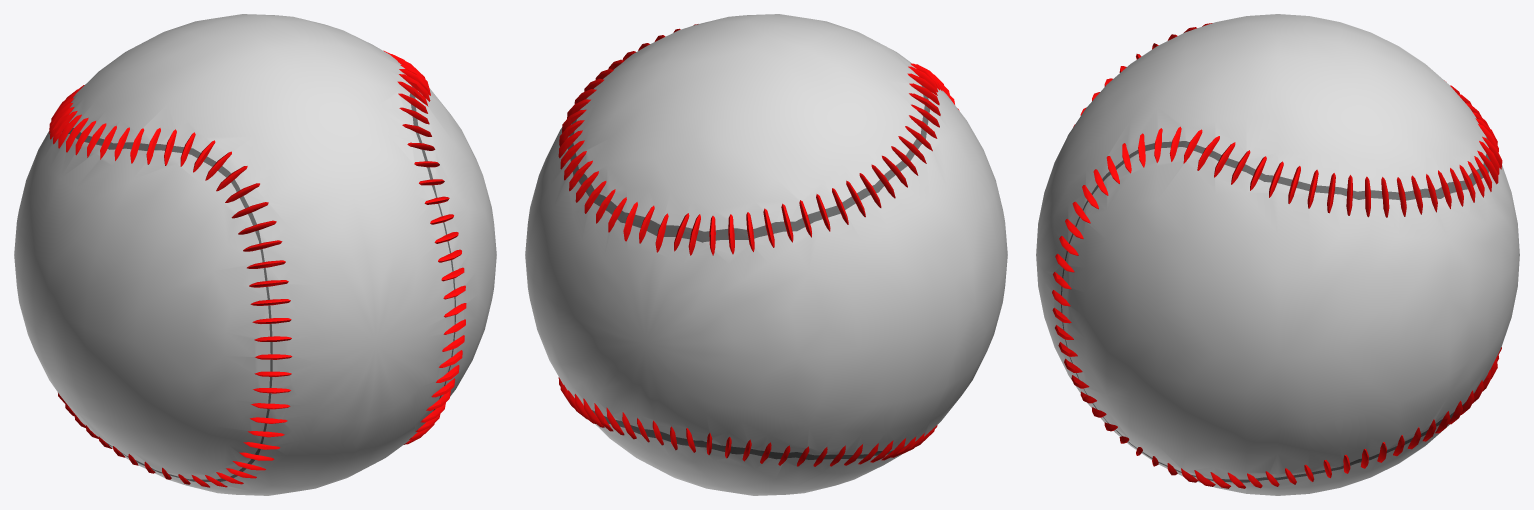
Rendered from baseball.obj.
The picture shows the model from 3 angles, left to right: view 1: azimuth 30°, elevation 25°; view 2: azimuth 150°, elevation 25°; view 3: azimuth 270°, elevation 25°; orthographic projection.
Parts seen in each view (by area): view 1: Leather, Stitching, Gap; view 2: Leather, Stitching, Gap; view 3: Leather, Stitching, Gap.
Part boxes in pixels (bbox=[...]): Leather: bbox=[14, 14, 496, 495]; Stitching: bbox=[49, 50, 466, 487]; Gap: bbox=[62, 86, 455, 481]; Leather: bbox=[525, 14, 1007, 495]; Stitching: bbox=[558, 24, 959, 466]; Gap: bbox=[568, 69, 929, 459]; Leather: bbox=[1036, 14, 1519, 495]; Stitching: bbox=[1052, 23, 1502, 488]; Gap: bbox=[1061, 137, 1490, 482].
Bounding box in the file's own units: 0.0686 × 0.0686 × 0.0686.
